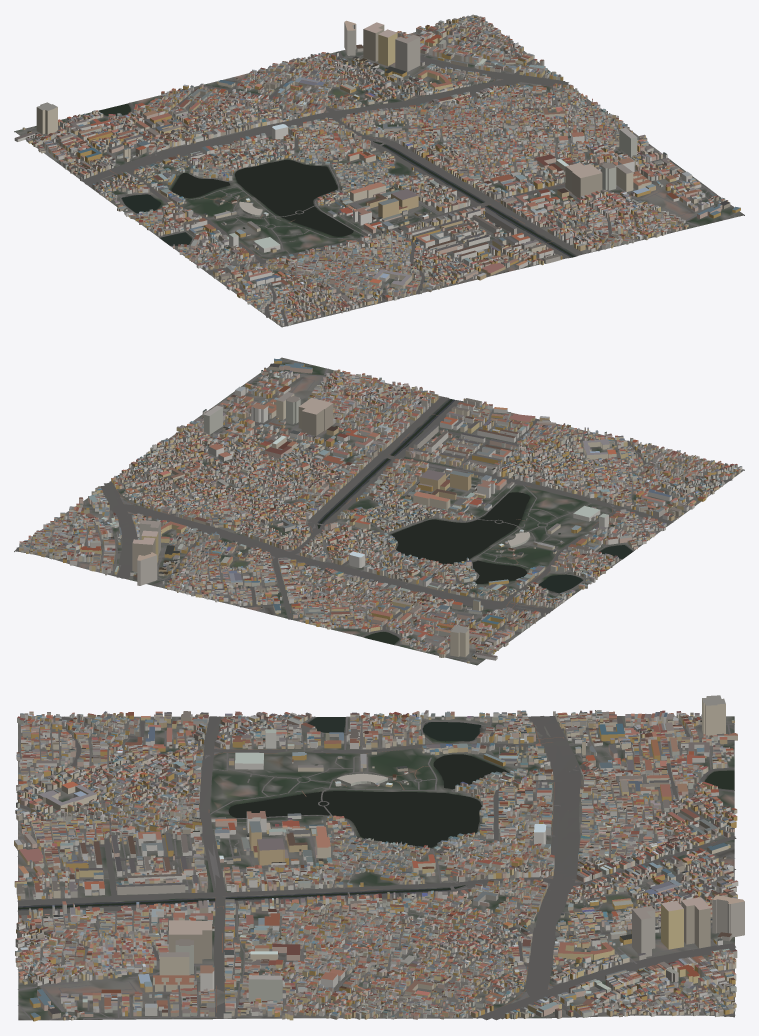
3 views of the same model, one above another, from view 1: azimuth 30°, elevation 25°; view 2: azimuth 150°, elevation 25°; view 3: azimuth 270°, elevation 25° (orthographic). The views are drawn at different scales.
Parts seen in each view (by area): view 1: buildings, ground, roads, water; view 2: buildings, ground, roads, water; view 3: buildings, ground, roads, water.
Part boxes in pixels (x1=…): buildings: x1=14, y1=14, x2=740, y2=326; ground: x1=14, y1=20, x2=744, y2=327; roads: x1=22, y1=23, x2=739, y2=326; water: x1=98, y1=103, x2=575, y2=257; buildings: x1=19, y1=358, x2=742, y2=663; ground: x1=14, y1=357, x2=744, y2=665; roads: x1=16, y1=361, x2=741, y2=662; water: x1=317, y1=399, x2=632, y2=644; buildings: x1=14, y1=695, x2=744, y2=1021; ground: x1=18, y1=716, x2=734, y2=1020; roads: x1=16, y1=715, x2=736, y2=1020; water: x1=18, y1=717, x2=734, y2=909.
Size of the model in its own units: 1436 by 91.28 by 1430.
